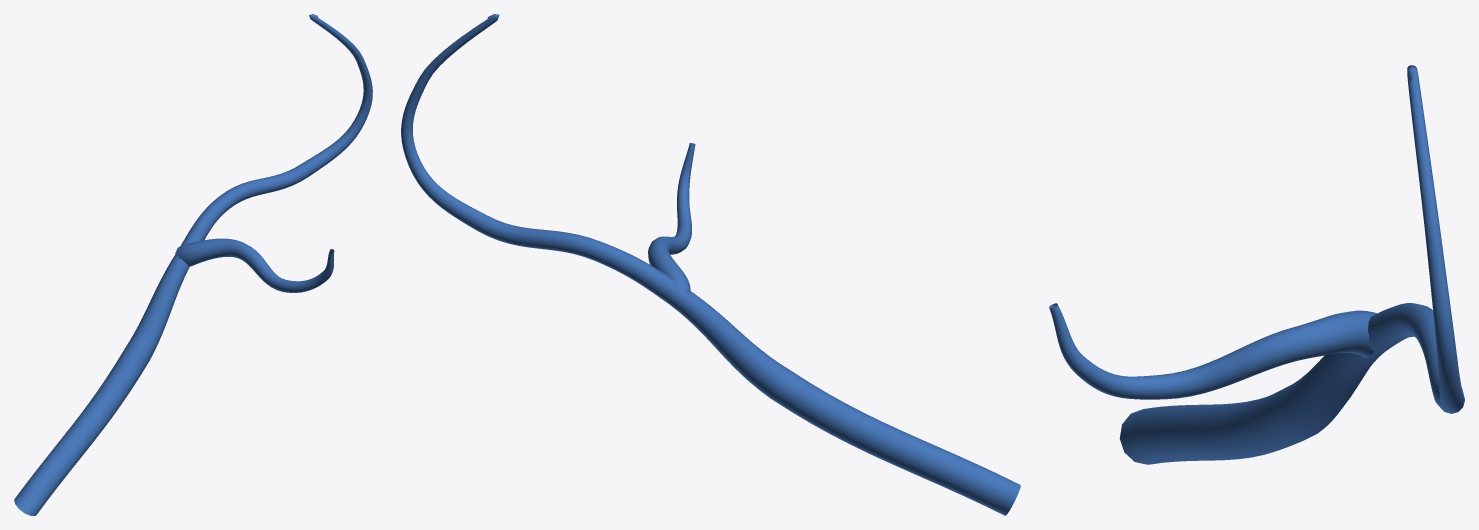
3 renders of one model, left to right at view 1: azimuth 30°, elevation 25°; view 2: azimuth 150°, elevation 25°; view 3: azimuth 270°, elevation 25°, orthographic. The views are drawn at different scales.
Parts seen in each view (by area): view 1: 左侧旋股外侧静脉; view 2: 左侧旋股外侧静脉; view 3: 左侧旋股外侧静脉.
Boxes of the visible parts, x1,y1,x2,y2 form: 左侧旋股外侧静脉: (14,14,372,515); 左侧旋股外侧静脉: (401,14,1020,515); 左侧旋股外侧静脉: (1049,65,1464,464).
Bounding box in the file's own units: 0.1559 × 0.1282 × 0.0656.
